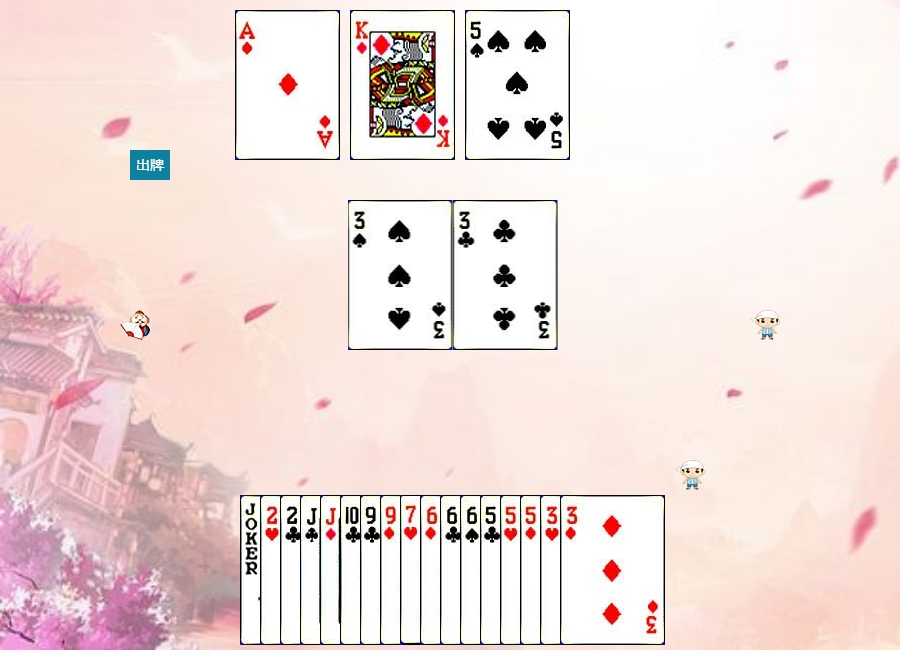10~2: (340, 495, 445, 645)
11~1: (320, 495, 425, 645)
11~2: (300, 495, 405, 645)
13~1: (350, 10, 455, 160)
14~1: (235, 10, 340, 160)
15~2: (280, 495, 385, 645)
15~3: (260, 495, 365, 645)
17~3: (240, 495, 345, 645)
3~1: (560, 495, 665, 645)
3~2: (453, 200, 558, 350)
3~3: (540, 495, 645, 645)
3~4: (348, 200, 453, 350)
5~1: (520, 495, 625, 645)
5~2: (480, 495, 585, 645)
5~3: (500, 495, 605, 645)
5~4: (465, 10, 570, 160)
6~1: (420, 495, 525, 645)
6~2: (440, 495, 545, 645)
6~4: (460, 495, 565, 645)
7~3: (400, 495, 505, 645)
9~1: (380, 495, 485, 645)
9~2: (360, 495, 465, 645)
